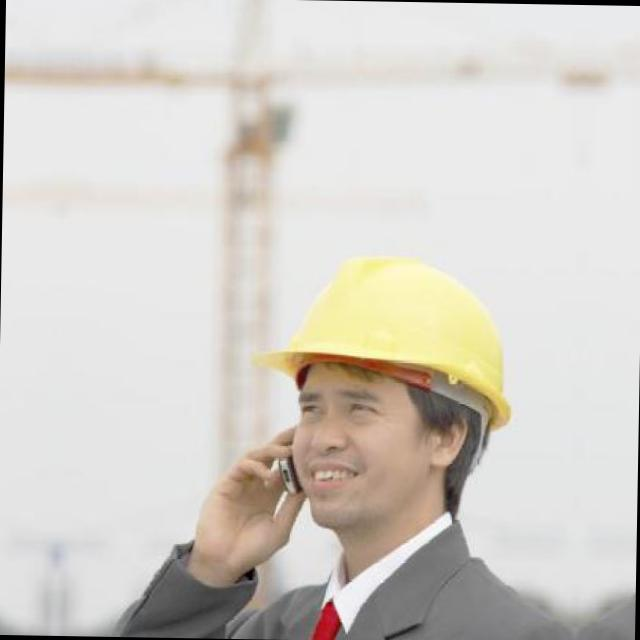helmet: (244, 209, 542, 557)
